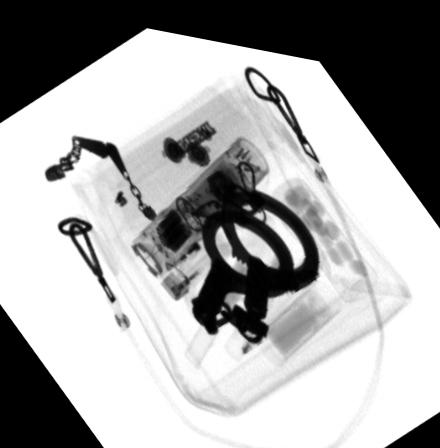Baton: (127, 122, 271, 272)
HandCuffs: (188, 177, 319, 335)
Lighter: (151, 225, 229, 293)
